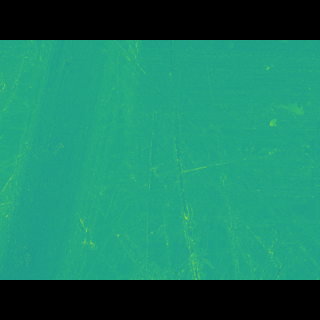Loch: (0, 141, 320, 249), (0, 68, 145, 249)
